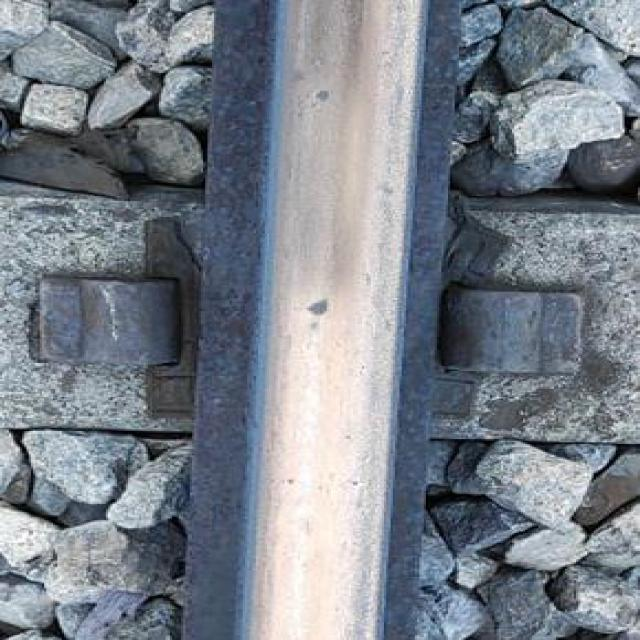Missing Fastener: (21, 256, 193, 387), (434, 268, 611, 395)
